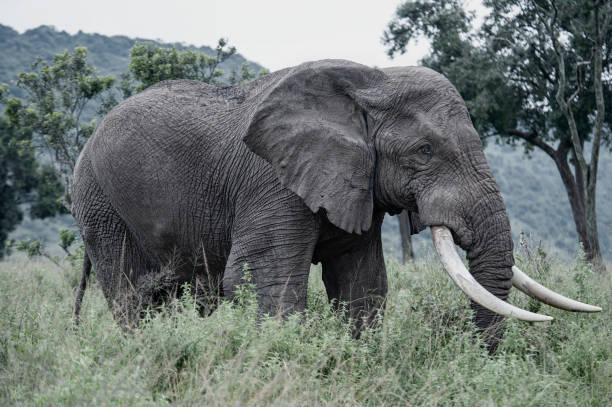africanelephant: (297, 58, 606, 329)
